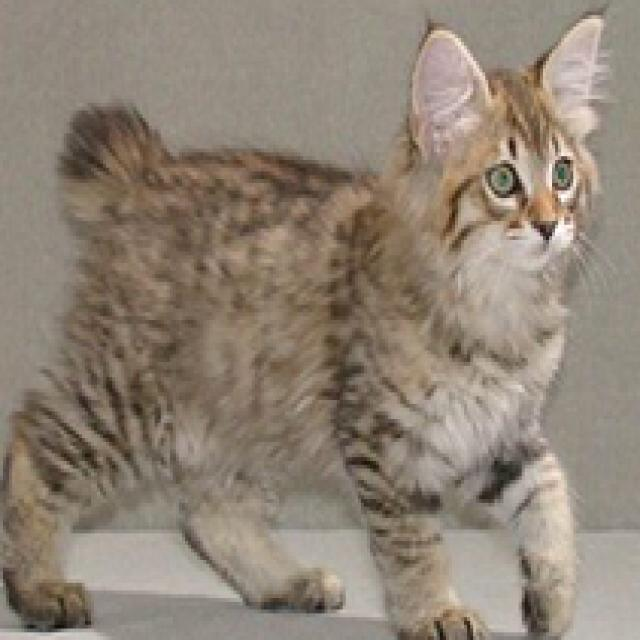American Bobtail: (0, 4, 607, 640)
